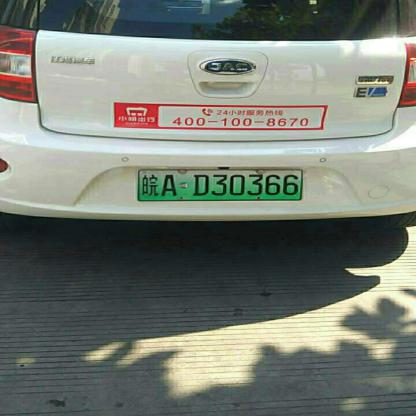lp: (139, 170, 300, 199)
